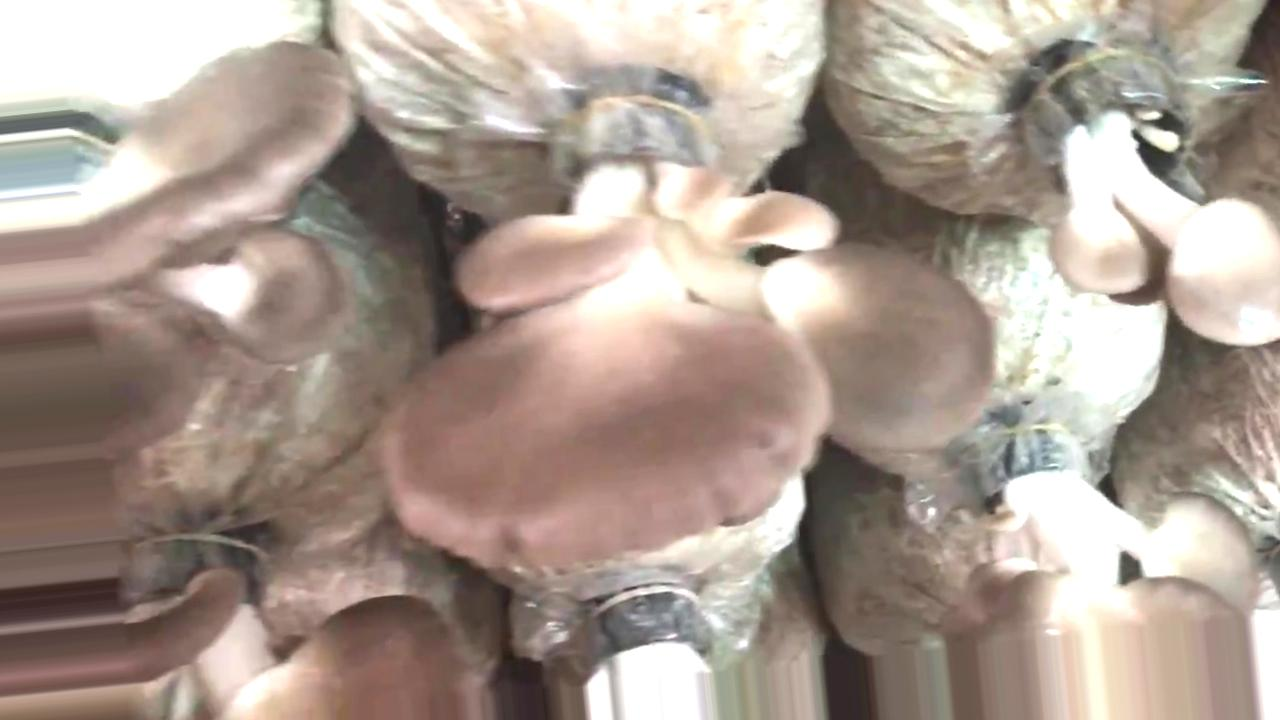nam: (385, 74, 996, 568), (1, 39, 359, 472), (1, 510, 467, 717), (956, 409, 1256, 720), (1041, 39, 1277, 349)
